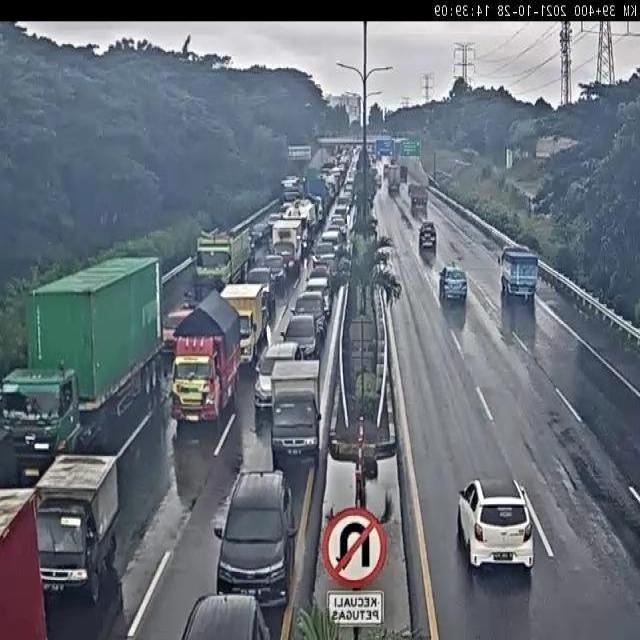Car: (212, 470, 308, 590), (445, 477, 550, 579), (181, 590, 277, 640), (246, 340, 298, 410), (282, 313, 320, 363), (304, 273, 332, 317), (438, 265, 468, 302), (250, 262, 276, 302), (313, 240, 337, 266), (281, 176, 301, 199)
Truck: (0, 262, 172, 458), (40, 454, 122, 593), (164, 305, 241, 436), (0, 492, 49, 639), (260, 361, 326, 466), (191, 225, 260, 290), (496, 242, 546, 309), (229, 281, 265, 360), (270, 217, 307, 278), (409, 184, 428, 217), (419, 222, 437, 250), (386, 164, 402, 194)
